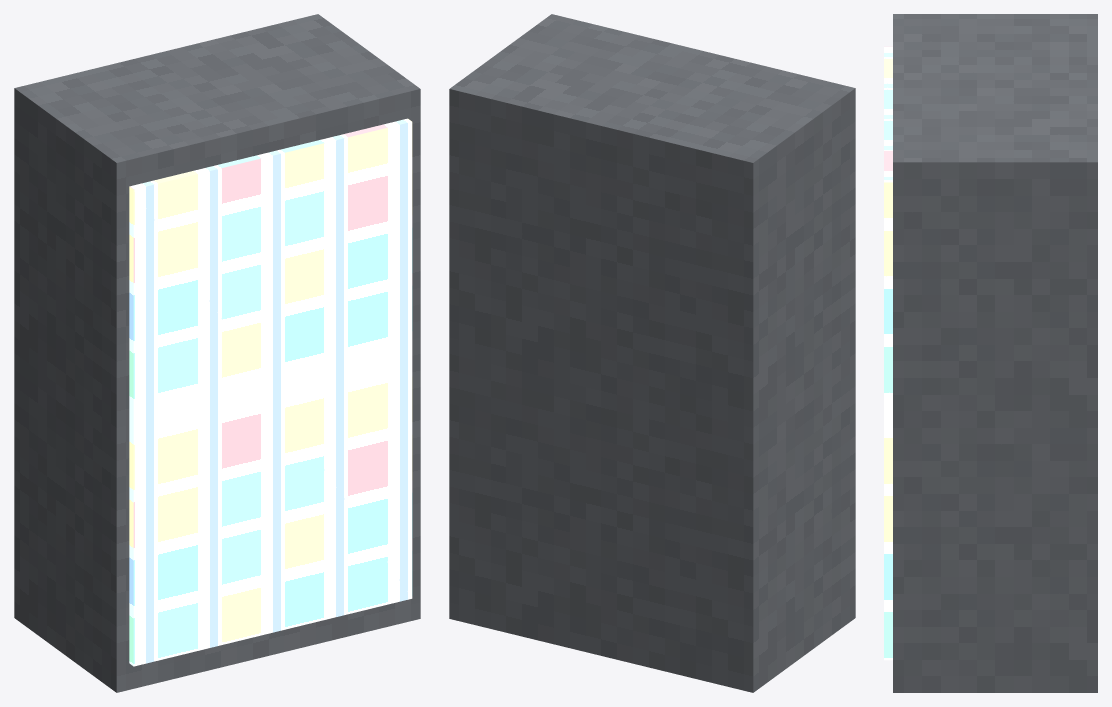
Rendered from env_fridge_unit.glb.
The picture shows the model from 3 angles, left to right: view 1: azimuth 30°, elevation 25°; view 2: azimuth 150°, elevation 25°; view 3: azimuth 270°, elevation 25°; orthographic projection.
Parts seen in each view (by area): view 1: env_fridge_unit; view 2: env_fridge_unit; view 3: env_fridge_unit.
Part boxes in pixels (x1,y1,x2,y2): env_fridge_unit: (14, 14, 420, 692); env_fridge_unit: (449, 14, 855, 692); env_fridge_unit: (884, 14, 1097, 692).
Bounding box in the file's own units: 1.2 × 2 × 0.73.
2 materials, 2 textured.
